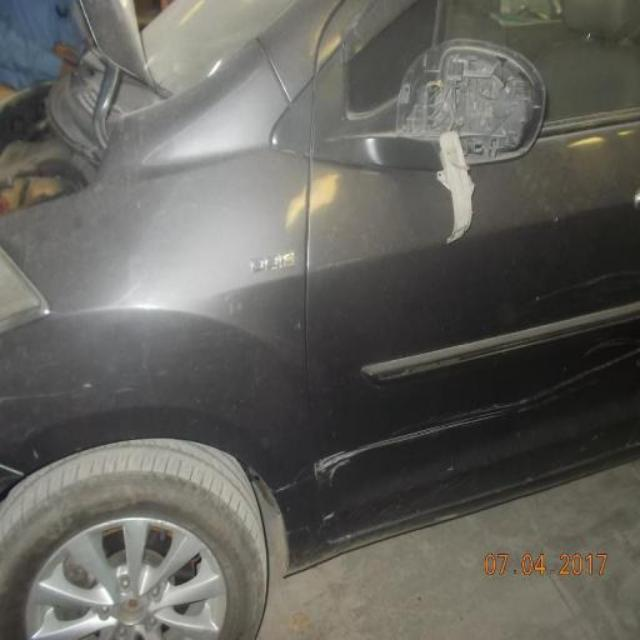scratch: (270, 352, 637, 498)
